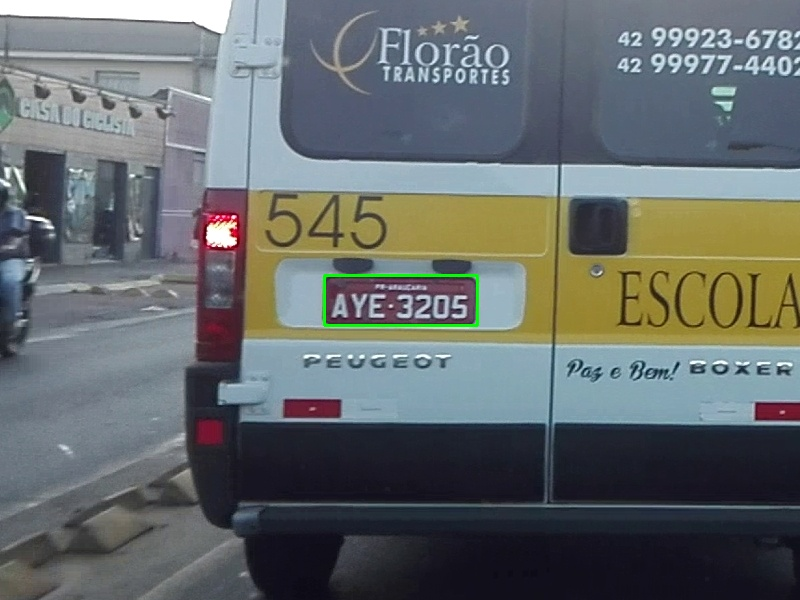placa: (324, 275, 477, 325)
